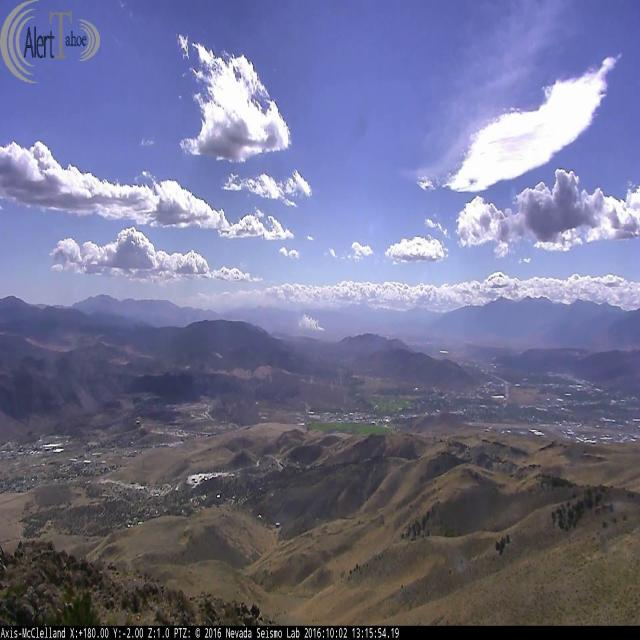smoke: (298, 312, 324, 332)
